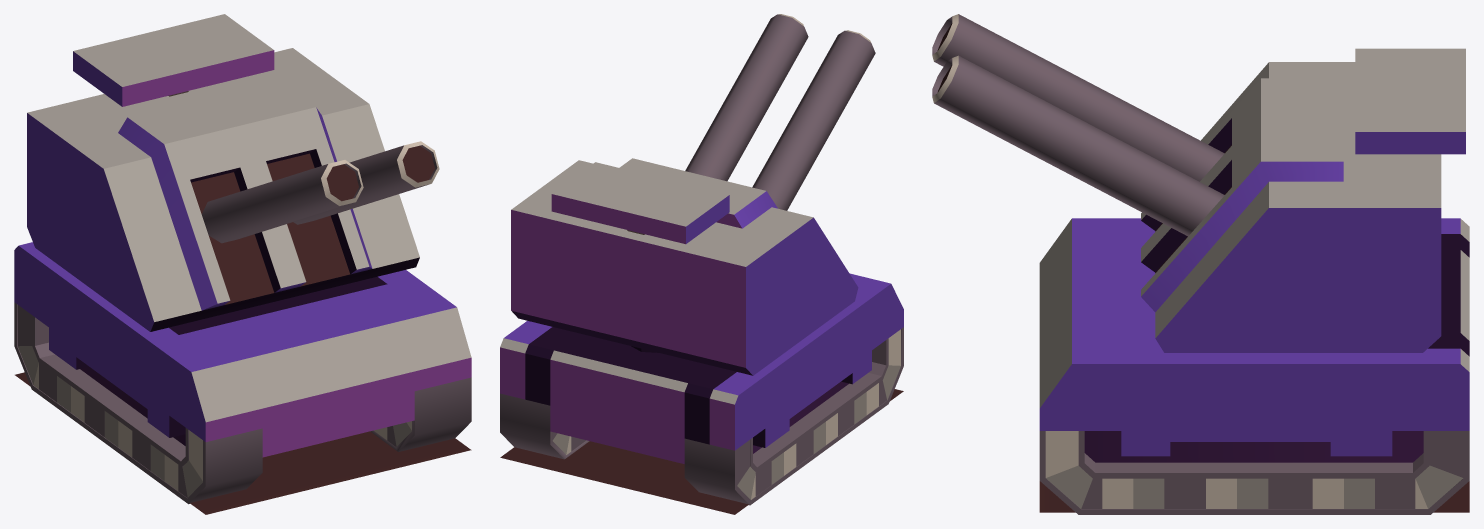
The model's file is AntiAirMesh.BlackHole.glb.
3 renders of one model, left to right at view 1: azimuth 30°, elevation 25°; view 2: azimuth 150°, elevation 25°; view 3: azimuth 270°, elevation 25°, orthographic. The views are drawn at different scales.
Parts seen in each view (by area): view 1: AntiAirMesh.BlackHole; view 2: AntiAirMesh.BlackHole; view 3: AntiAirMesh.BlackHole.
Part boxes in pixels (<box>): AntiAirMesh.BlackHole: <box>14,14,471,514</box>; AntiAirMesh.BlackHole: <box>500,14,903,514</box>; AntiAirMesh.BlackHole: <box>932,14,1469,514</box>.
Bounding box in the file's own units: 1.4 × 1.8 × 2.18.
Materials: 1 (1 with a texture image).
